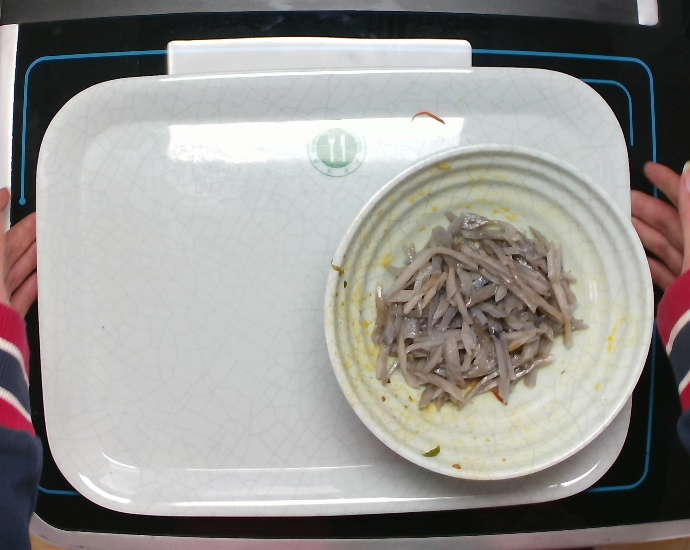JYsf-Da_Tang_Wan: (321, 143, 657, 483)
